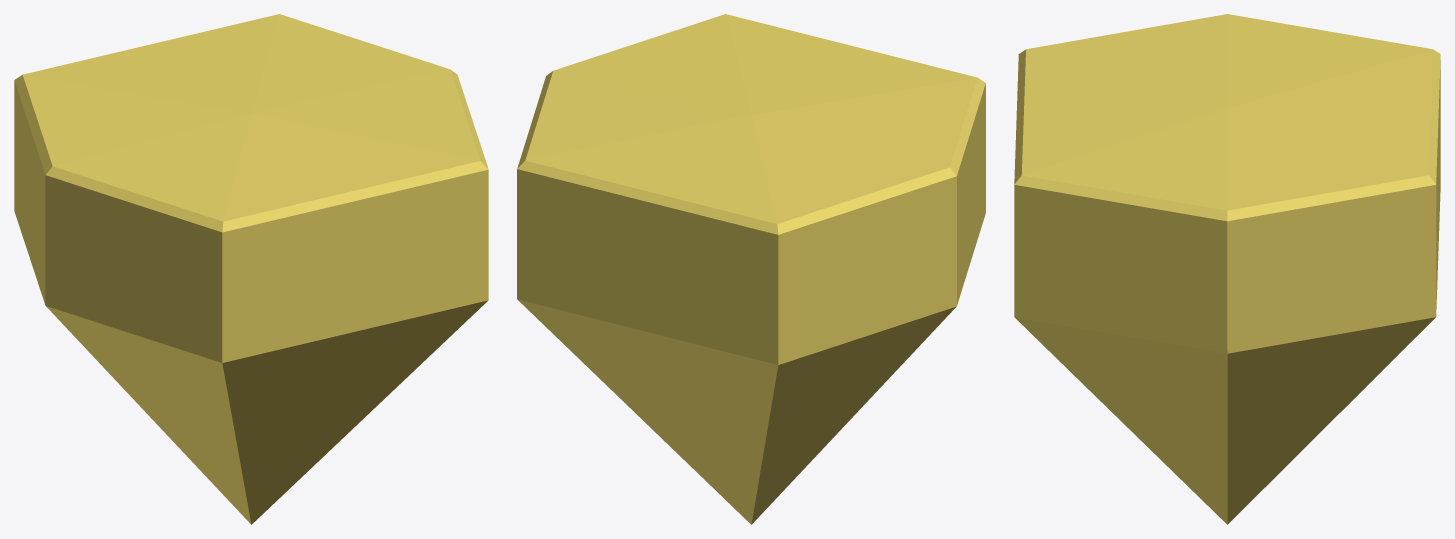
File: Pommel3.glb
The picture shows the model from 3 angles, left to right: view 1: azimuth 30°, elevation 25°; view 2: azimuth 150°, elevation 25°; view 3: azimuth 270°, elevation 25°; orthographic projection.
Visible parts, largest first — view 1: Pommel 3; view 2: Pommel 3; view 3: Pommel 3.
Part boxes in pixels (bbox=[...]): Pommel 3: bbox=[14, 14, 488, 524]; Pommel 3: bbox=[517, 14, 985, 524]; Pommel 3: bbox=[1014, 14, 1440, 524].
Size of the model in its own units: 0.32 by 0.3053 by 0.283.
